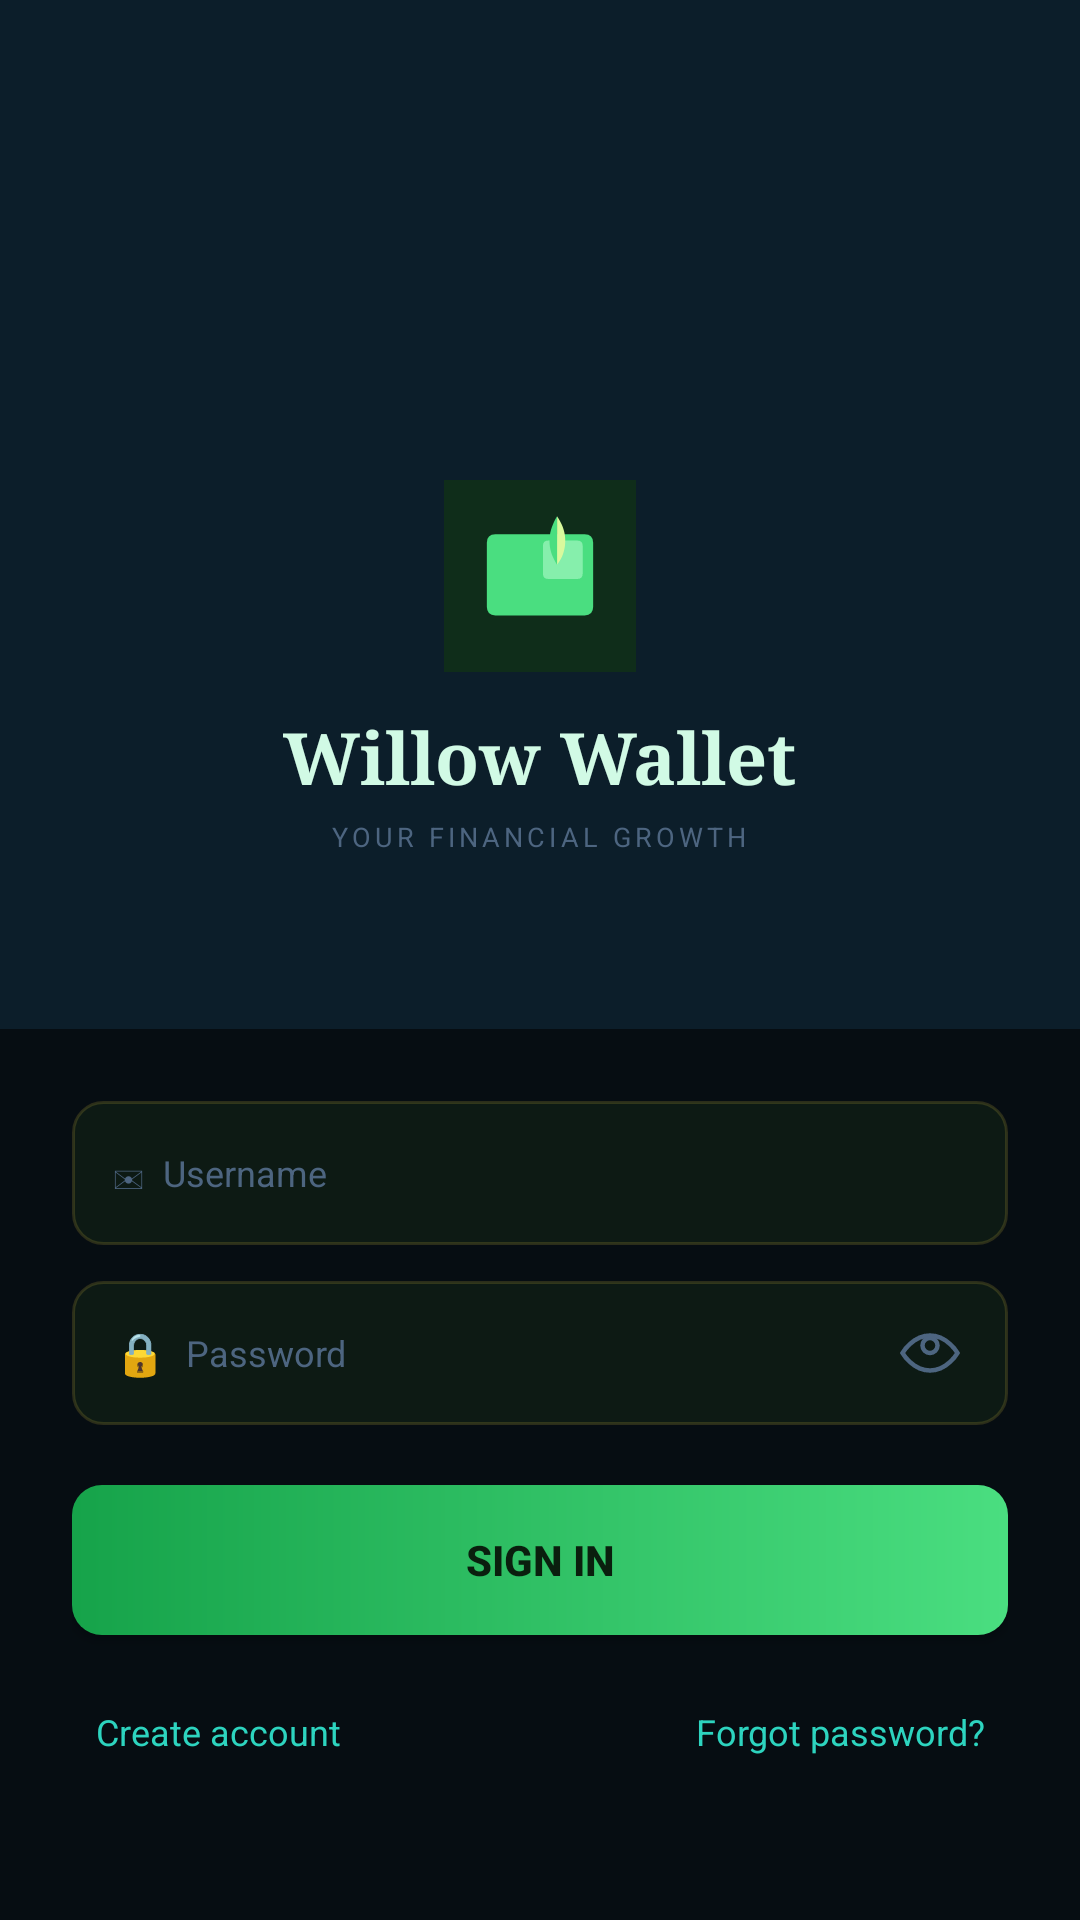

Icon bounding boxes for this 1080px x 1920px phone screenshot, format (x1, y1, x2, y2):
eye open: (900, 1333, 960, 1373)
